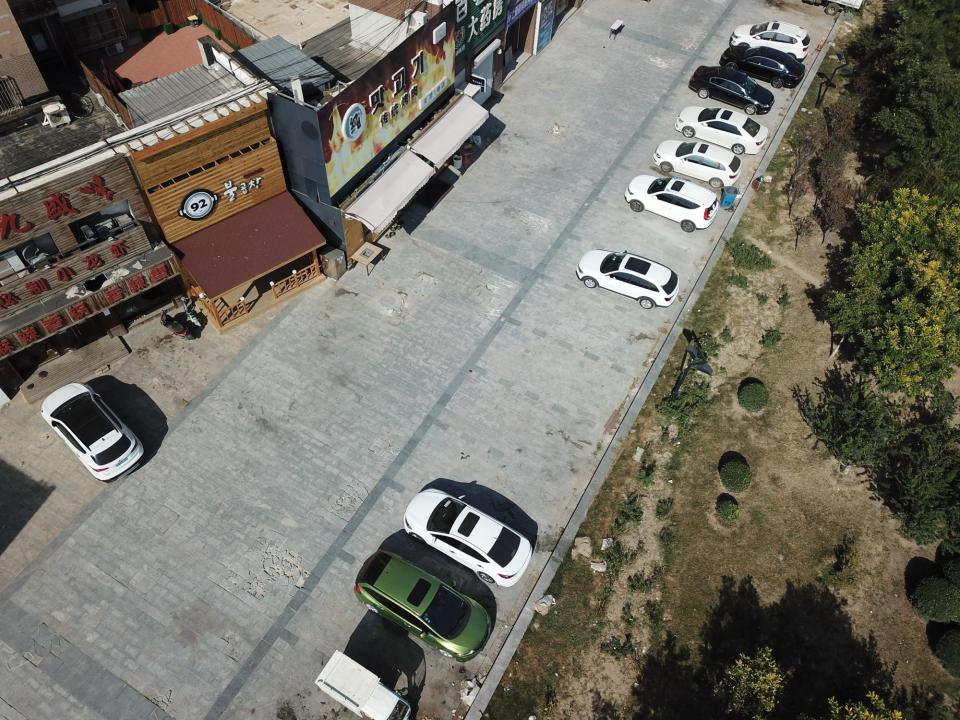car: (352, 547, 493, 661), (399, 484, 533, 590), (37, 380, 145, 484), (575, 244, 684, 308), (621, 173, 721, 232), (672, 103, 770, 156), (653, 138, 745, 191), (686, 63, 776, 116), (720, 43, 806, 91), (727, 20, 812, 66)
